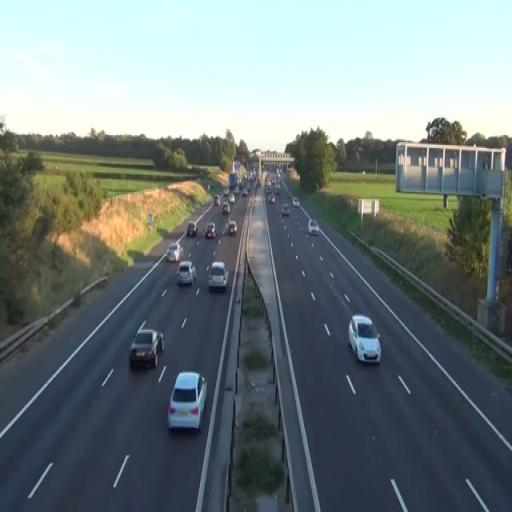Car: (166, 372, 208, 432), (347, 314, 382, 366), (129, 328, 164, 370), (208, 261, 229, 292), (176, 261, 196, 287), (166, 242, 184, 263), (205, 222, 217, 239), (308, 218, 318, 236), (186, 222, 198, 237), (228, 221, 237, 236)
